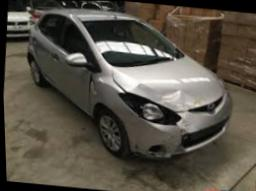Bonnet: (112, 76, 201, 111)
Bumper: (165, 111, 195, 154)
Fender: (90, 70, 106, 98)
Light: (118, 93, 180, 125)
